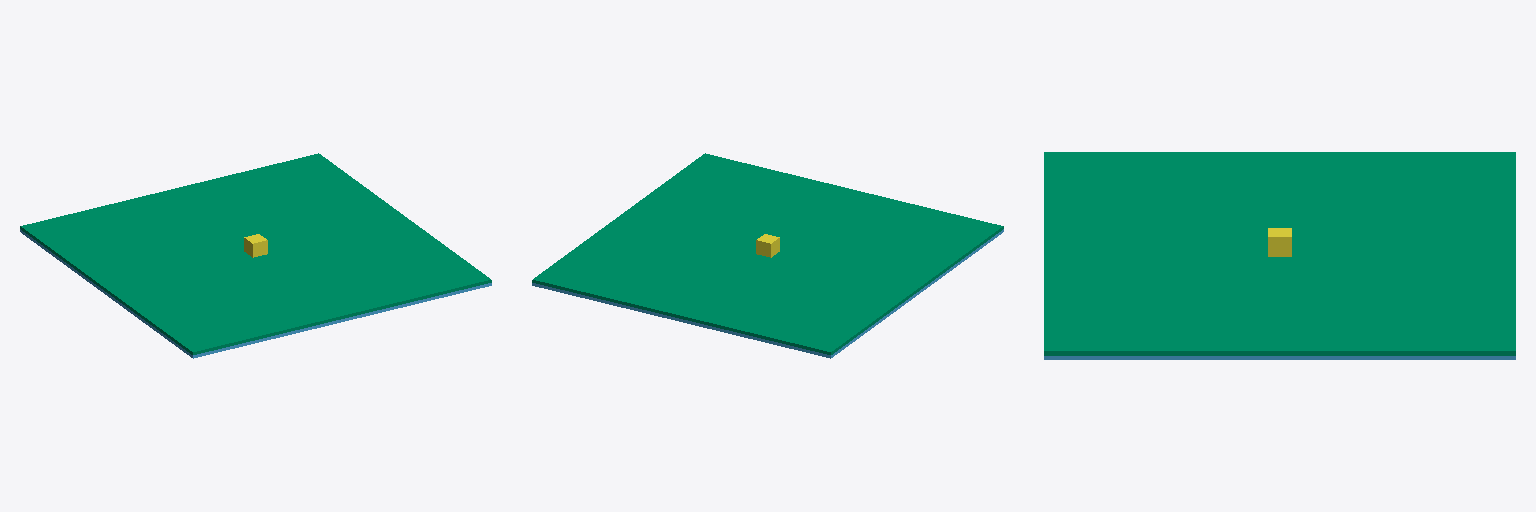
robot.urdf — gurdy:
<robot name="gurdy">

    <gazebo>
        <plugin name="gazebo_ros_control" filename="libgazebo_ros_control.so">
        </plugin>
    </gazebo>
	<!-- * * * Link Definitions * * * -->

    <link name="world"/>

    <link name="x_axis_link">
 	    <inertial>
            <origin rpy="0.0 0 0" xyz="0 0 0"/>
            <mass value="0.01" />
            <inertia ixx="7.58333333333e-07" ixy="0.0" ixz="0.0" iyy="7.58333333333e-07" iyz="0.0" izz="1.25e-06"/>
        </inertial>
        <collision>
            <origin rpy="0.0 0 0" xyz="0 0 0"/>
            <geometry>
                <box size="1.0 1.0 0.01"/>
            </geometry>
        </collision>
        <visual>
            <origin rpy="0.0 0 0" xyz="0 0 0"/>
            <geometry>
                <box size="1.0 1.0 0.01"/>
            </geometry>
        </visual>
	</link>

    <gazebo reference="x_axis_link">
        <mu1>10.0</mu1>
        <mu2>10.0</mu2>
        <material>Gazebo/Red</material>
    </gazebo>

    <joint name="x_axis_joint" type="prismatic">
        <origin xyz="0 0 0.01" rpy="0.0 0.0 0.0"/>
        <parent link="world" />
        <child link="x_axis_link" />
        <axis xyz="1 0 0" />
        <limit effort="10000" lower="-5.0" upper="5.0" velocity="1" />
        <!--<dynamics damping="100.0" />-->
    </joint>


    <transmission name="tran1">
        <type>transmission_interface/SimpleTransmission</type>
        <joint name="x_axis_joint">
            <hardwareInterface>EffortJointInterface</hardwareInterface>
        </joint>
        <actuator name="motor1">
            <hardwareInterface>EffortJointInterface</hardwareInterface>
            <mechanicalReduction>1</mechanicalReduction>
        </actuator>
    </transmission>

    <link name="y_axis_link">
 	    <inertial>
            <origin rpy="0.0 0 0" xyz="0 0 0"/>
            <mass value="0.01" />
            <inertia ixx="7.58333333333e-07" ixy="0.0" ixz="0.0" iyy="7.58333333333e-07" iyz="0.0" izz="1.25e-06"/>
        </inertial>
        <collision>
            <origin rpy="0.0 0 0" xyz="0 0 0"/>
            <geometry>
                <box size="1.0 1.0 0.01"/>
            </geometry>
        </collision>
        <visual>
            <origin rpy="0.0 0 0" xyz="0 0 0"/>
            <geometry>
                <box size="1.0 1.0 0.01"/>
            </geometry>
        </visual>
	</link>

    <gazebo reference="y_axis_link">
        <mu1>10.0</mu1>
        <mu2>10.0</mu2>
        <material>Gazebo/Green</material>
        <self_collide>0</self_collide>
    </gazebo>

    <joint name="y_axis_joint" type="prismatic">
        <origin xyz="0 0 0.01" rpy="0.0 0.0 0.0"/>
        <parent link="x_axis_link" />
        <child link="y_axis_link" />
        <axis xyz="0 1 0" />
        <limit effort="10000" lower="-5.0" upper="5.0" velocity="1" />
        <!--<dynamics damping="100.0" />-->
    </joint>


    <transmission name="tran2">
        <type>transmission_interface/SimpleTransmission</type>
        <joint name="y_axis_joint">
            <hardwareInterface>EffortJointInterface</hardwareInterface>
        </joint>
        <actuator name="motor2">
            <hardwareInterface>EffortJointInterface</hardwareInterface>
            <mechanicalReduction>1</mechanicalReduction>
        </actuator>
    </transmission>


    <link name="entity_link">
 	    <inertial>
            <origin rpy="0.0 0 0" xyz="0 0 0"/>
            <mass value="0.1" />
            <inertia ixx="4.16666666667e-05" ixy="0.0" ixz="0.0" iyy="4.16666666667e-05" iyz="0.0" izz="4.16666666667e-05"/>
        </inertial>

        <visual>
            <origin rpy="0.0 0 0" xyz="0 0 0"/>
            <geometry>
                <box size="0.05 0.05 0.05"/>
            </geometry>
        </visual>
	</link>

    <gazebo reference="entity_link">
        <mu1>10.0</mu1>
        <mu2>10.0</mu2>
        <material>Gazebo/Blue</material>
    </gazebo>

    <joint name="entity_link_joint" type="fixed">
        <parent link="y_axis_link"/>
        <child link="entity_link"/>
        <origin xyz="0 0 0.025" rpy="0 0 0"/>
    </joint>



</robot>

--- Facts derived from the render (not from the file) ---
The picture shows the robot from 3 angles, left to right: view 1: azimuth 30°, elevation 25°; view 2: azimuth 150°, elevation 25°; view 3: azimuth 270°, elevation 25°; orthographic projection.
Model gurdy with 4 links and 3 joints (2 prismatic, 1 fixed), rooted at world, posed every joint at zero.
Links seen in each view (by area): view 1: y_axis_link, x_axis_link; view 2: y_axis_link, x_axis_link; view 3: y_axis_link, x_axis_link, entity_link.
Boxes of the visible links, x1,y1,x2,y2 form: y_axis_link: (20,153,491,354); x_axis_link: (20,229,491,358); y_axis_link: (532,153,1003,354); x_axis_link: (532,229,1003,358); y_axis_link: (1044,152,1515,355); x_axis_link: (1044,356,1515,359); entity_link: (1268,228,1291,256).
Size in the robot's own frame: 1 by 1 by 0.065 metres.
Geometry: primitives only (box / cylinder / sphere), no mesh files.
